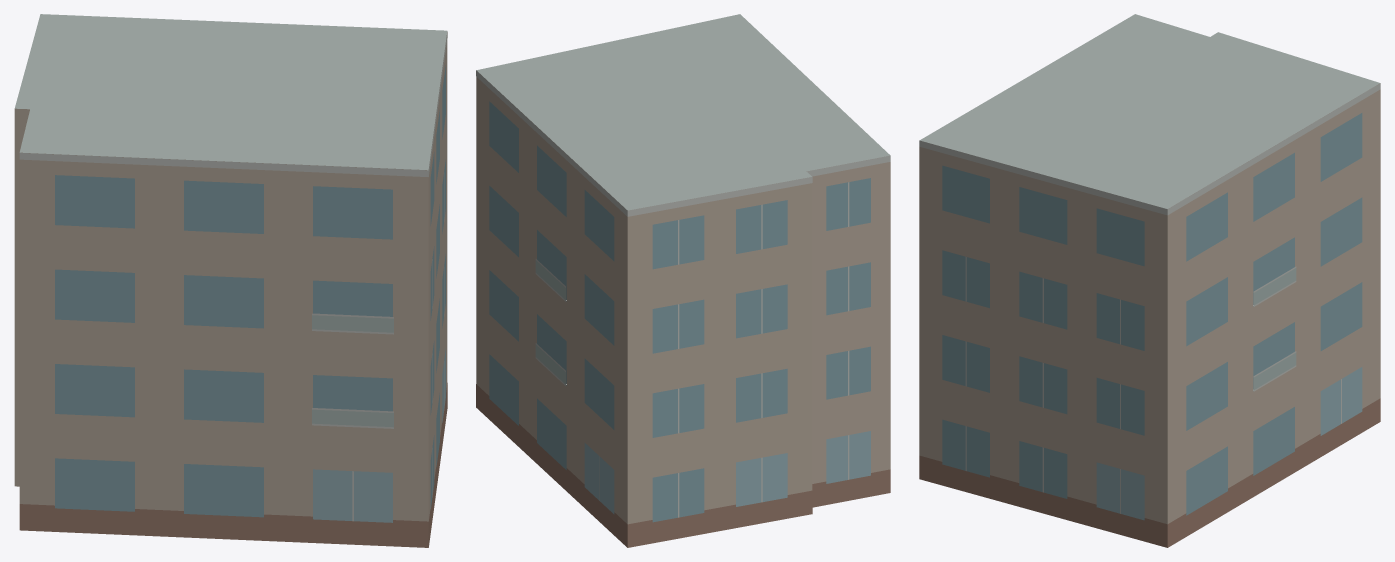
The model's file is survey-upis-32942460.glb.
3 renders of one model, left to right at view 1: azimuth 30°, elevation 25°; view 2: azimuth 150°, elevation 25°; view 3: azimuth 270°, elevation 25°, orthographic. The views are drawn at different scales.
Visible parts, largest first — view 1: survey-upis-32942460.tmp; view 2: survey-upis-32942460.tmp; view 3: survey-upis-32942460.tmp.
Boxes of the visible parts, x1,y1,x2,y2 form: survey-upis-32942460.tmp: (14, 14, 447, 547); survey-upis-32942460.tmp: (476, 14, 890, 547); survey-upis-32942460.tmp: (919, 14, 1380, 547).
Size of the model in its own units: 16.32 by 13.2 by 16.29.
